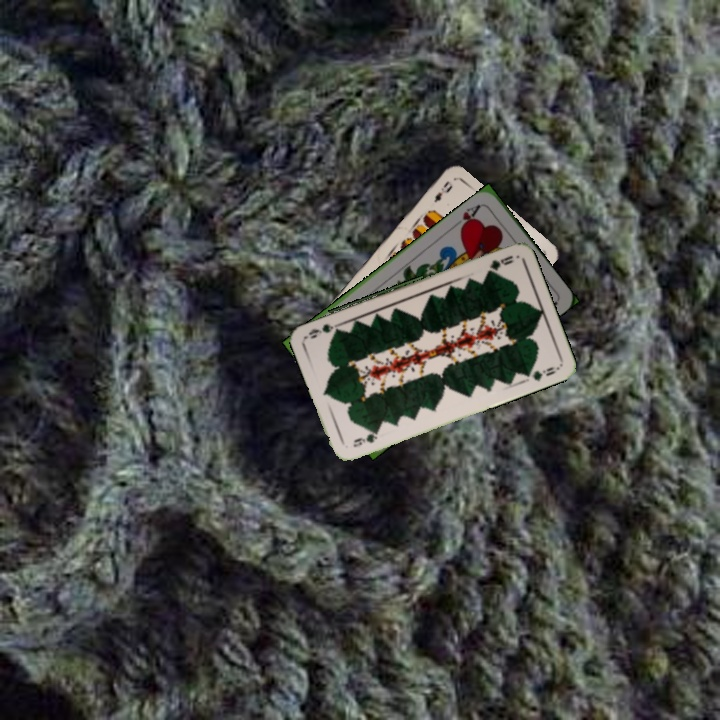E9: (430, 177, 455, 206)
G9: (481, 251, 516, 276), (349, 425, 382, 450)
HA: (450, 200, 485, 233)
